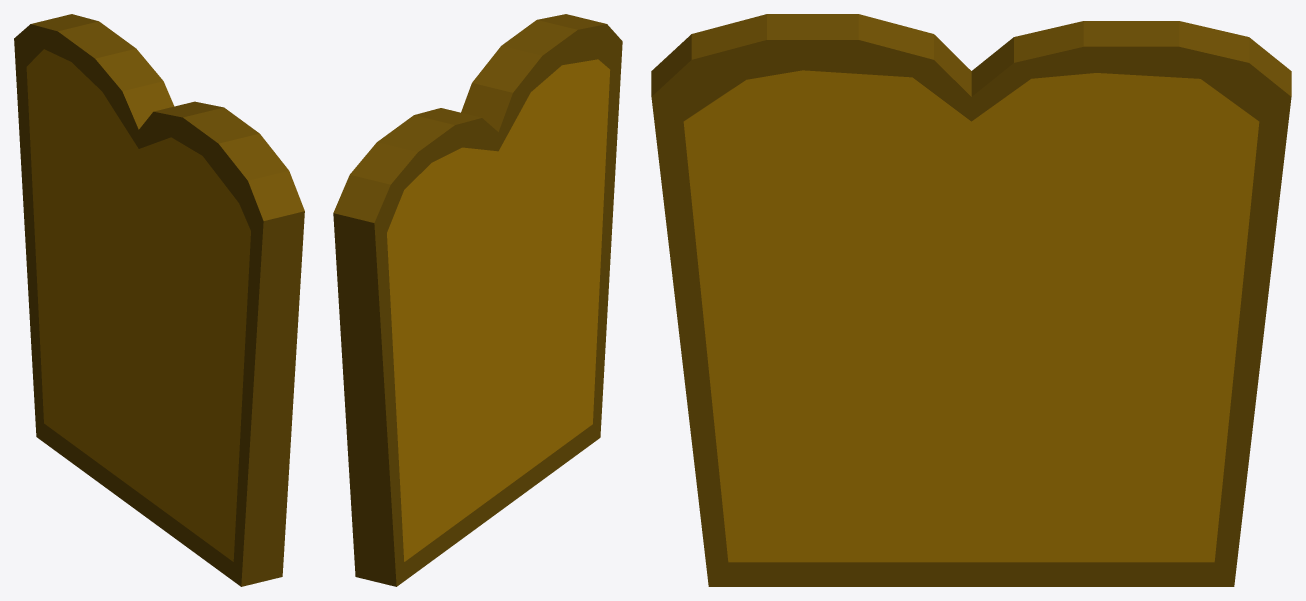
File: Bread.fbx
The picture shows the model from 3 angles, left to right: view 1: azimuth 30°, elevation 25°; view 2: azimuth 150°, elevation 25°; view 3: azimuth 270°, elevation 25°; orthographic projection. The views are drawn at different scales.
Parts seen in each view (by area): view 1: Bread; view 2: Bread; view 3: Bread.
Boxes of the visible parts, <box> form: Bread: <box>14,14,304,586</box>; Bread: <box>333,14,622,586</box>; Bread: <box>651,14,1291,586</box>.
Size of the model in its own units: 25.16 by 248 by 263.
